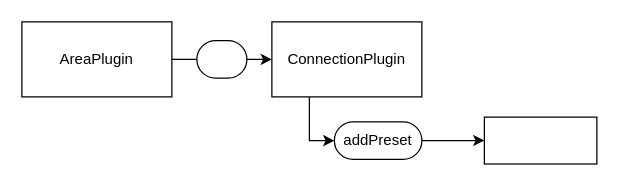
Some shapes in this 619 by 186 pixel diagram are drawn without their labels. Each missing label, with the centre of its shape:
classic: (540,140)
use: (221,58)
